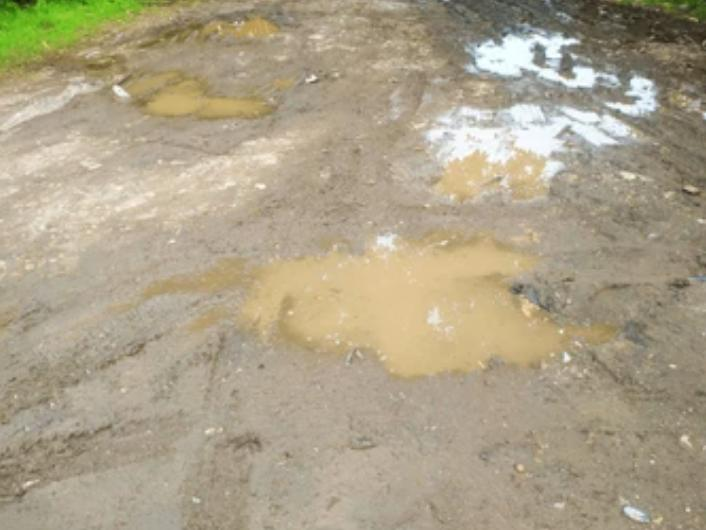water accumulation: (246, 224, 601, 378), (419, 32, 661, 205), (115, 71, 280, 123), (149, 14, 283, 47)
